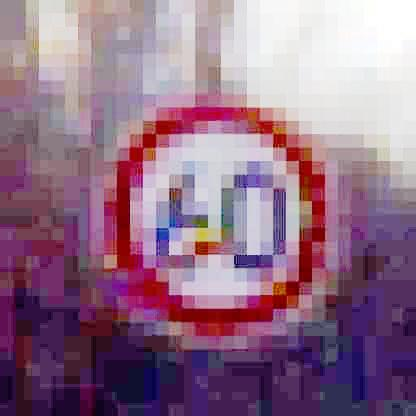Speed Limit -60-: (92, 98, 333, 345)
